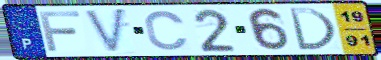2: (192, 6, 239, 53)
6: (246, 7, 291, 53)
C: (143, 9, 192, 52)
D: (286, 7, 339, 52)
F: (36, 9, 83, 53)
V: (83, 7, 129, 55)
